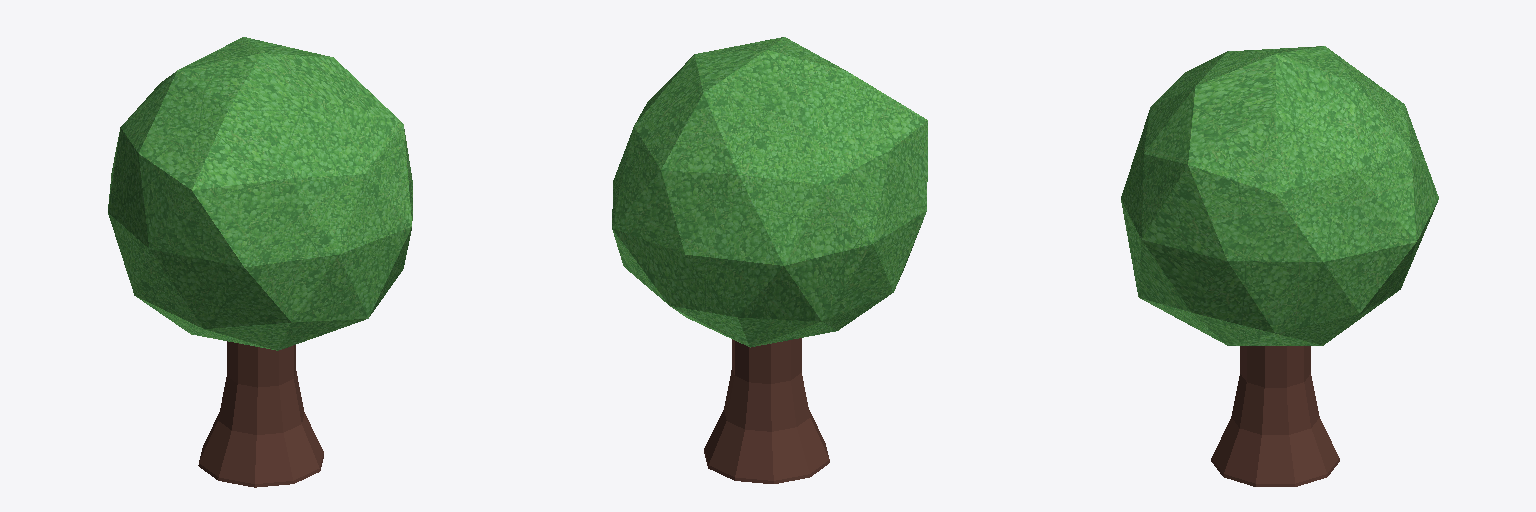
3 views of the same model, side by side, from view 1: azimuth 30°, elevation 25°; view 2: azimuth 150°, elevation 25°; view 3: azimuth 270°, elevation 25° (orthographic).
Parts seen in each view (by area): view 1: Tree_Low_Cylinder; view 2: Tree_Low_Cylinder; view 3: Tree_Low_Cylinder.
Boxes of the visible parts, box(x1,y1,x2,y2) form: Tree_Low_Cylinder: box(108, 37, 412, 487); Tree_Low_Cylinder: box(612, 37, 927, 483); Tree_Low_Cylinder: box(1121, 46, 1438, 486).
Size of the model in its own units: 1.98 by 2.9 by 2.06.
Materials: 1 (1 with a texture image).